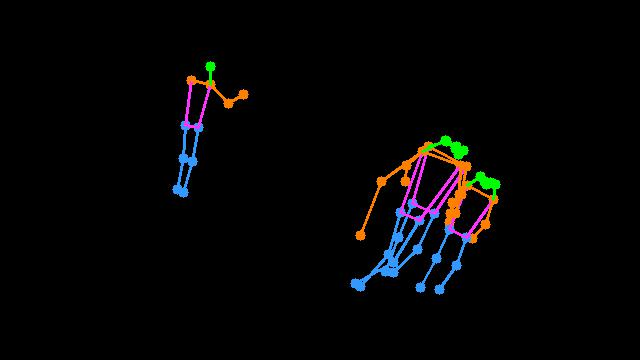normal: (331, 118, 511, 318)
